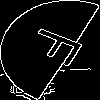F: (25, 25, 97, 73)
